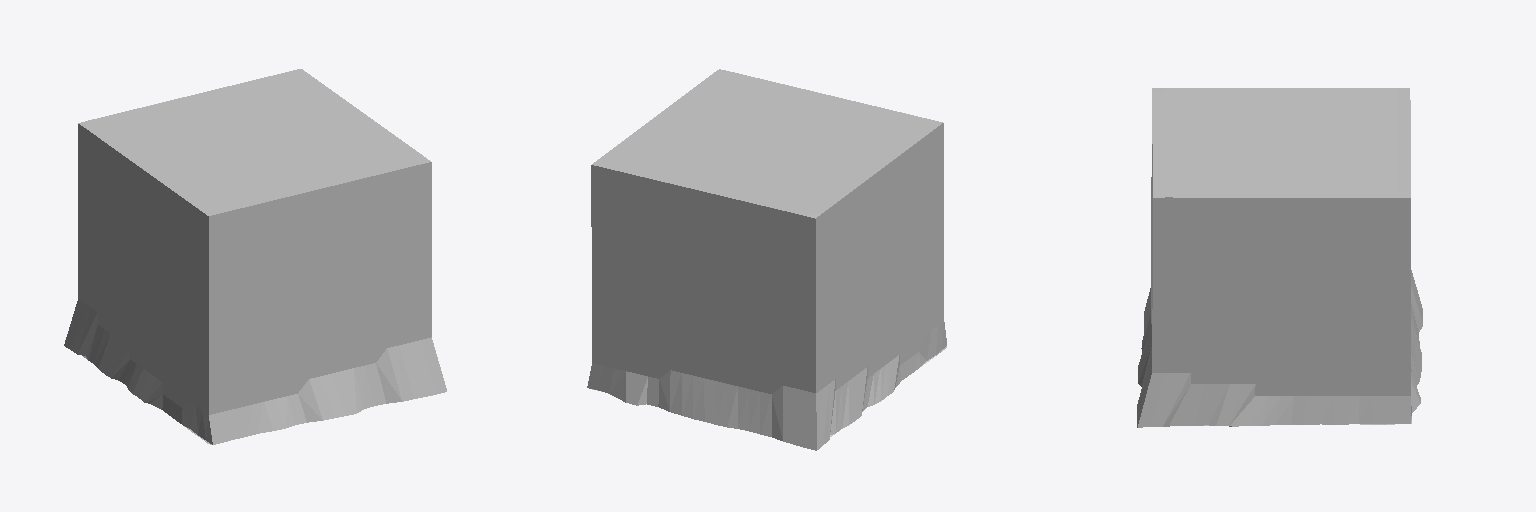
The model's file is mod0145.obj.
The picture shows the model from 3 angles: view 1: azimuth 30°, elevation 25°; view 2: azimuth 150°, elevation 25°; view 3: azimuth 270°, elevation 25°; orthographic projection.
Visible parts, largest first — view 1: Box001; view 2: Box001; view 3: Box001.
Part boxes in pixels (x1,y1,x2,y2): Box001: (64,69,446,444); Box001: (587,69,946,450); Box001: (1137,88,1422,427).
Size of the model in its own units: 0.5799 by 0.523 by 0.5979.